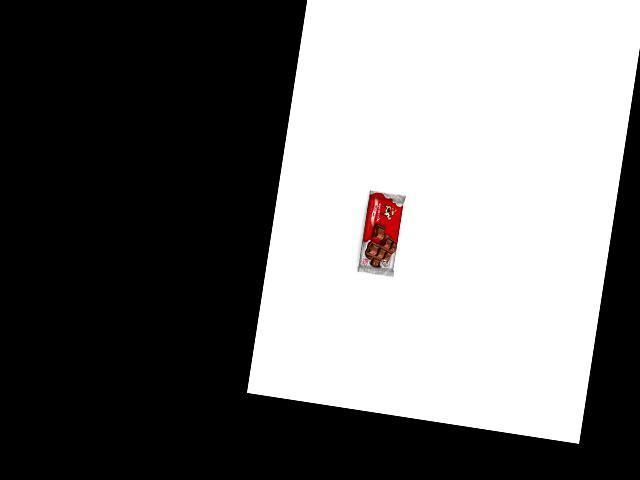chocolate: (356, 189, 406, 279)
